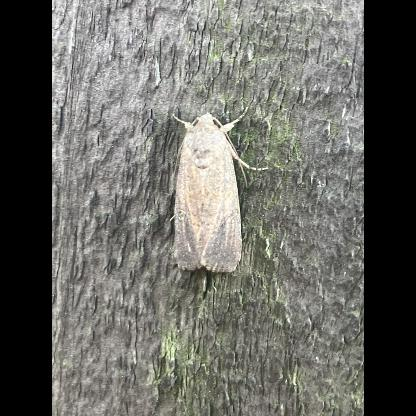Fall Armyworm Moth: (168, 105, 270, 275)
